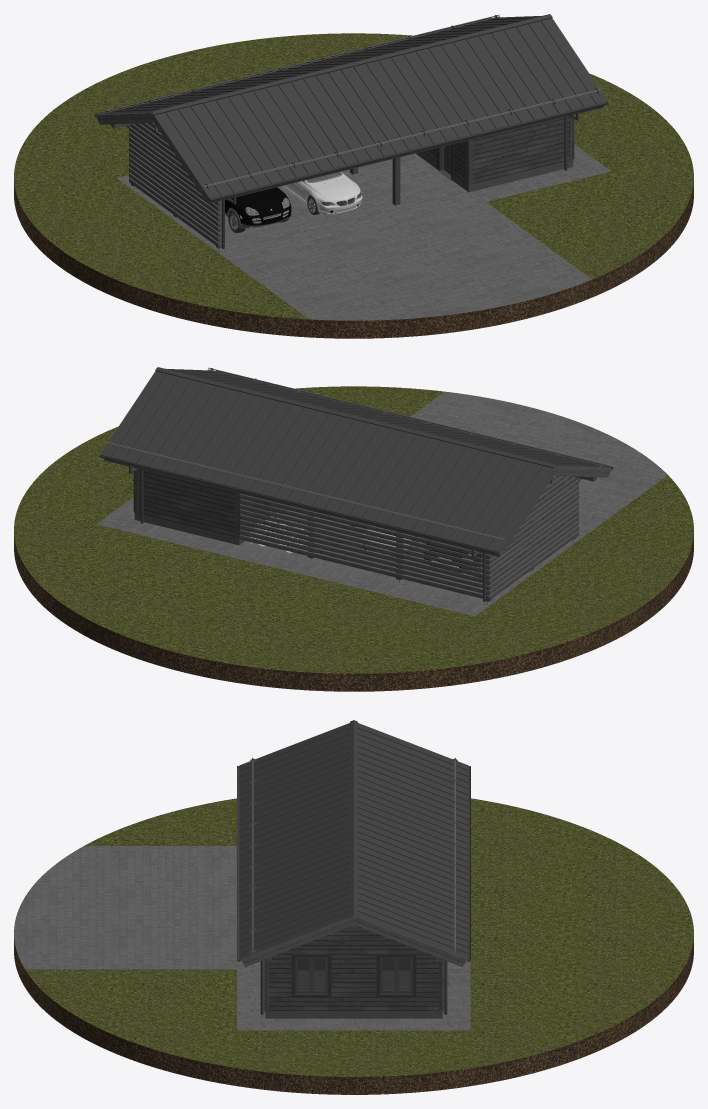
Rendered from GARASI MOBIL.glb.
The picture shows the model from 3 angles, top to bottom: view 1: azimuth 30°, elevation 25°; view 2: azimuth 150°, elevation 25°; view 3: azimuth 270°, elevation 25°; orthographic projection.
Visible parts, largest first — view 1: object 68, PEN_MATERIAL2, object 3, object 67, object 1, object 81, object 79, GDLM124_Mat_27, GDLM110_Carrosserie, object 84, object 2; view 2: object 68, PEN_MATERIAL2, object 3, object 1, object 67, object 81, object 79, object 84, object 2; view 3: object 68, PEN_MATERIAL2, object 3, object 67, object 81, object 1, object 82, object 4, object 79, object 84, object 73, object 2.
Boxes of the visible parts, left/top/right/bottom form: object 68: left=14, top=33, right=693, bottom=320; PEN_MATERIAL2: left=94, top=14, right=608, bottom=248; object 3: left=117, top=144, right=611, bottom=320; object 67: left=14, top=181, right=693, bottom=338; object 1: left=96, top=105, right=604, bottom=247; object 81: left=423, top=116, right=569, bottom=183; object 79: left=97, top=14, right=601, bottom=190; GDLM124_Mat_27: left=281, top=171, right=362, bottom=214; GDLM110_Carrosserie: left=225, top=187, right=291, bottom=225; object 84: left=416, top=151, right=573, bottom=192; object 2: left=131, top=115, right=574, bottom=248; object 68: left=14, top=386, right=693, bottom=673; PEN_MATERIAL2: left=99, top=367, right=613, bottom=601; object 3: left=97, top=391, right=667, bottom=616; object 1: left=103, top=458, right=611, bottom=600; object 67: left=14, top=534, right=693, bottom=691; object 81: left=138, top=469, right=279, bottom=536; object 79: left=106, top=367, right=610, bottom=543; object 84: left=134, top=508, right=286, bottom=545; object 2: left=133, top=468, right=576, bottom=601; object 68: left=14, top=798, right=693, bottom=1076; PEN_MATERIAL2: left=237, top=720, right=470, bottom=1014; object 3: left=14, top=846, right=470, bottom=1030; object 67: left=14, top=938, right=693, bottom=1094; object 81: left=269, top=926, right=438, bottom=1010; object 1: left=241, top=916, right=466, bottom=966; object 82: left=298, top=958, right=409, bottom=990; object 4: left=295, top=957, right=412, bottom=992; object 79: left=241, top=757, right=466, bottom=959; object 84: left=265, top=1011, right=442, bottom=1018; object 73: left=291, top=954, right=416, bottom=994; object 2: left=264, top=959, right=443, bottom=1011.
Bounding box in the file's own units: 24 × 5.17 × 24.
Materials: 84 (12 with a texture image).
